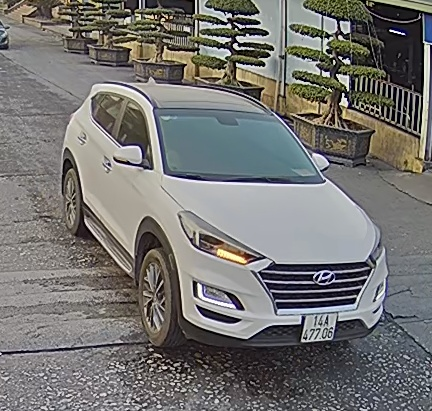vehicle plate: (301, 309, 341, 343)
